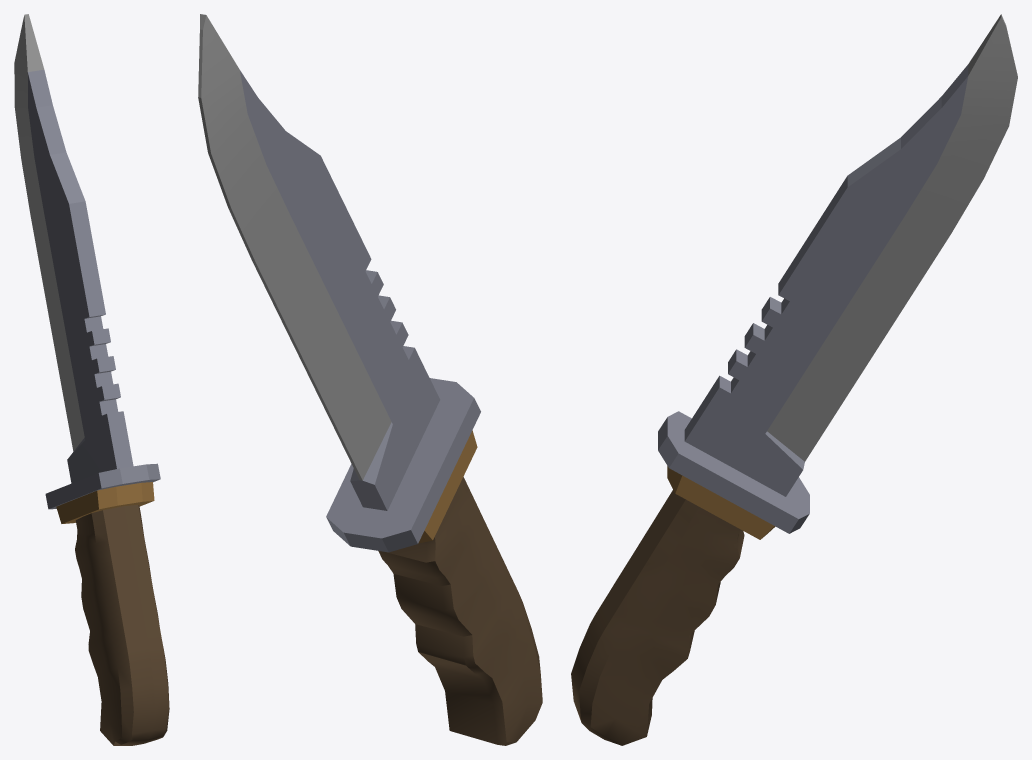
Rendered from knife.glb.
3 renders of one model, left to right at view 1: azimuth 30°, elevation 25°; view 2: azimuth 150°, elevation 25°; view 3: azimuth 270°, elevation 25°, orthographic. The views are drawn at different scales.
Visible parts, largest first — view 1: Knife_1; view 2: Knife_1; view 3: Knife_1.
Boxes of the visible parts, x1,y1,x2,y2 form: Knife_1: [14, 14, 169, 745]; Knife_1: [198, 14, 542, 745]; Knife_1: [571, 14, 1017, 745].
Bounding box in the file's own units: 0.0357 × 0.2715 × 0.147.
1 material, 1 textured.
